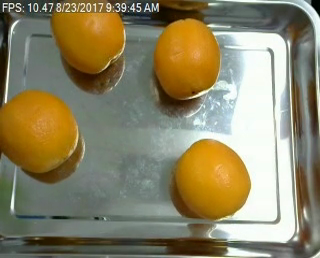Orange: (2, 90, 78, 172), (175, 137, 251, 218), (149, 18, 218, 99), (49, 1, 126, 73)
